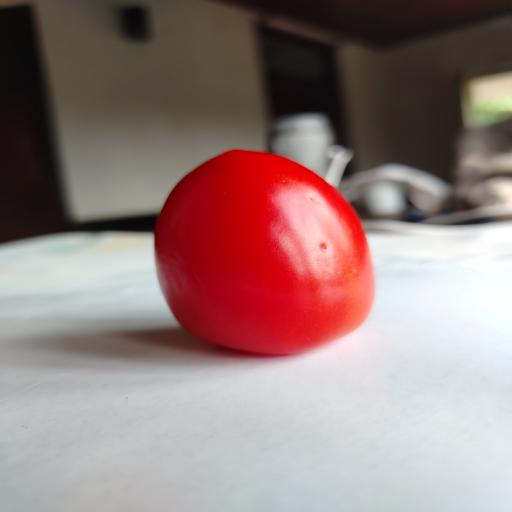ripe: (155, 151, 374, 354)
